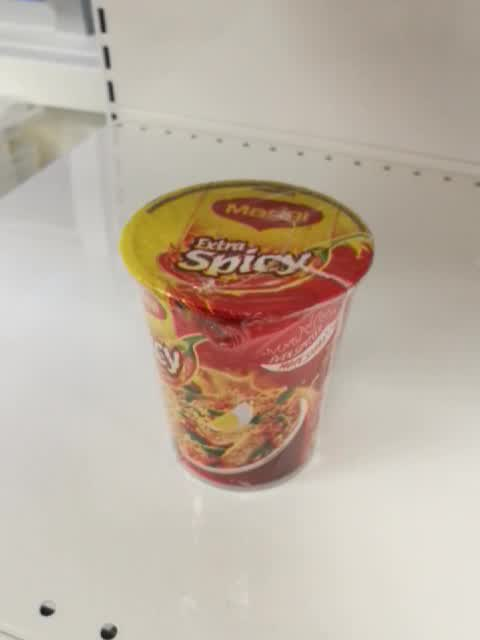maggi: (120, 179, 374, 493)
